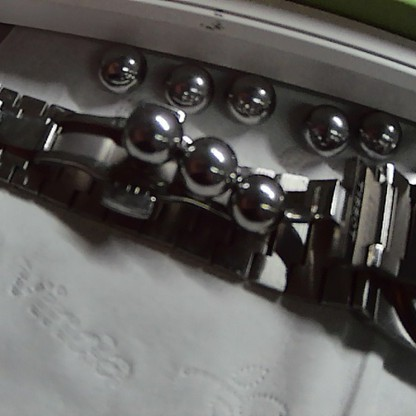ironball: (228, 166, 292, 228), (182, 132, 243, 195), (124, 94, 174, 163), (300, 96, 350, 158), (160, 55, 210, 117), (222, 75, 280, 128), (98, 43, 143, 94), (358, 108, 395, 157)
